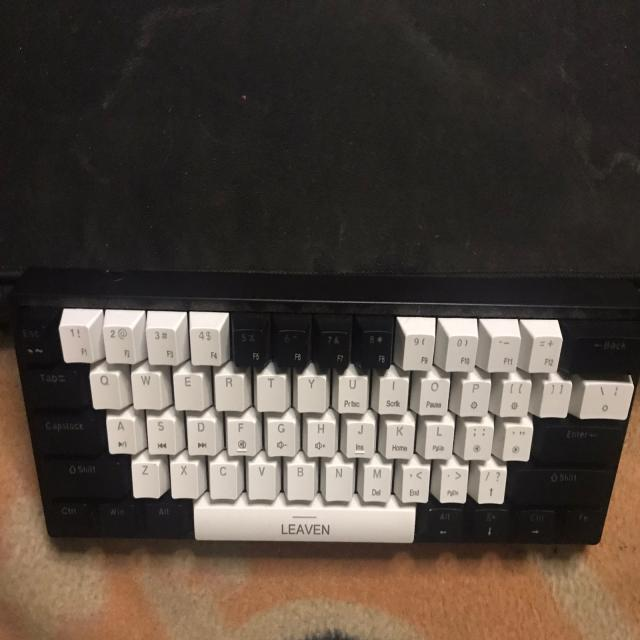-mouse-: (5, 273, 640, 551)
